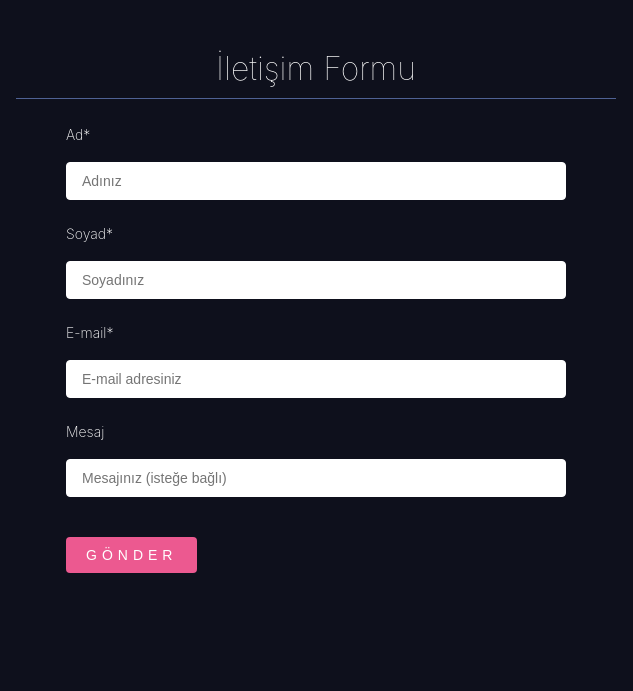
Test case: [9] form gönderildiğinde girilen tüm değerler render ediliyor.
The image size is (633, 691).
In the field with test id "name-input": (316, 181) top-left (66, 162), bottom-right (566, 200), type "emrah emrah"
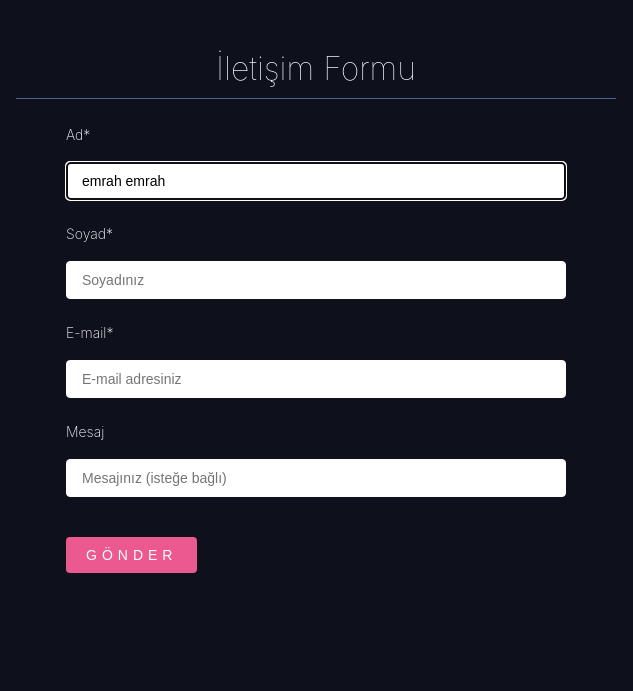
In the field with test id "lastName-input": (316, 280) top-left (66, 261), bottom-right (566, 299), type "test test test"
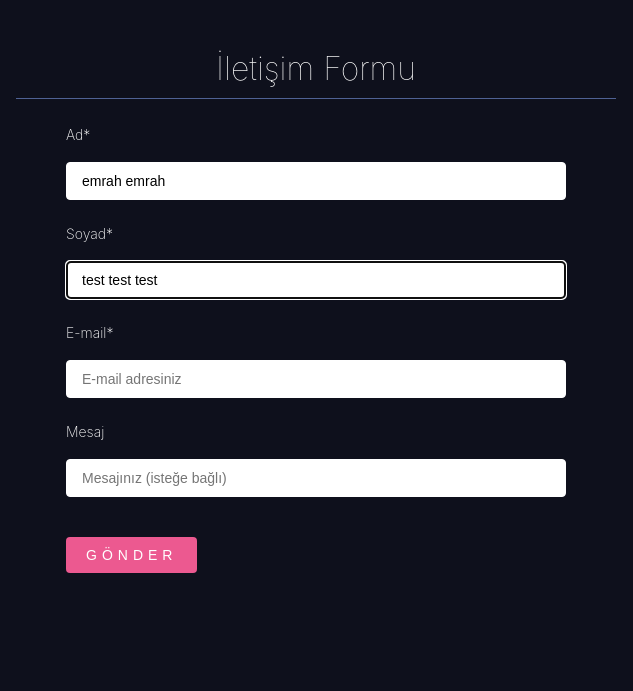
In the field with test id "email-input": (316, 379) top-left (66, 360), bottom-right (566, 398), type "emrah@workintech.com.tr"
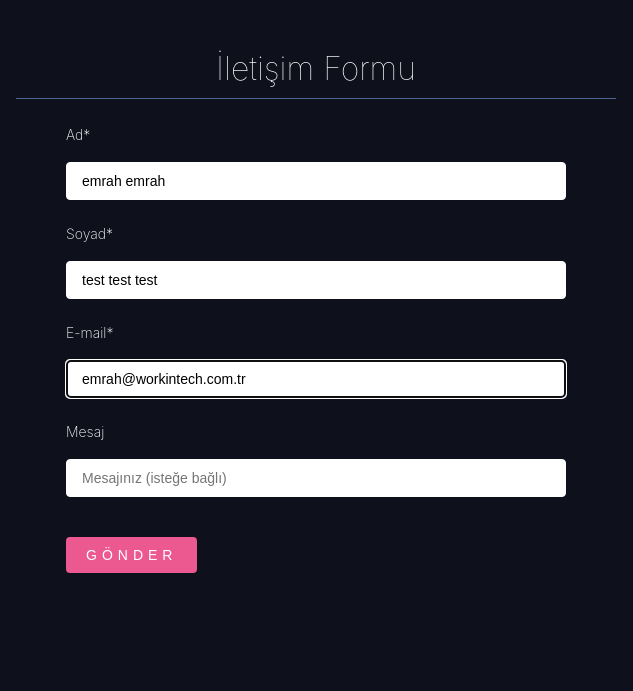
In the field with test id "message-input": (316, 478) top-left (66, 459), bottom-right (566, 497), type "emrah fdjkalfşa .com.tr"
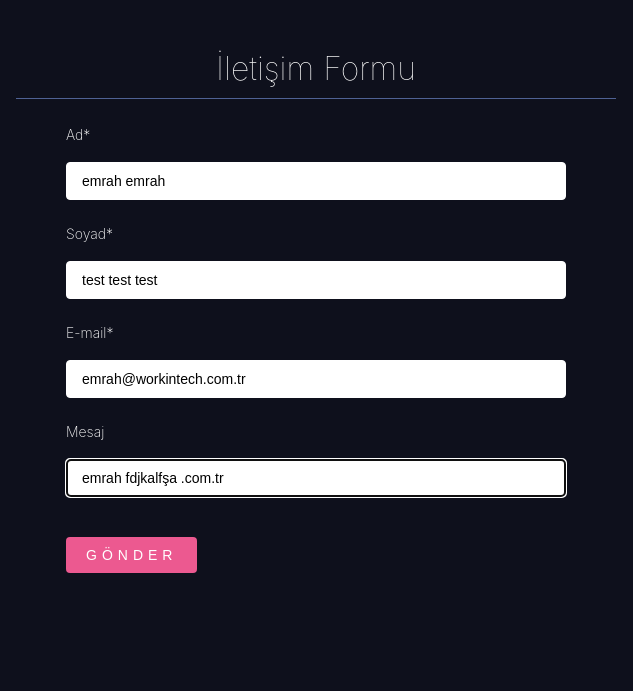
Click the button with test id "submit-button": (132, 555) top-left (66, 537), bottom-right (198, 573)
(page scrolled)
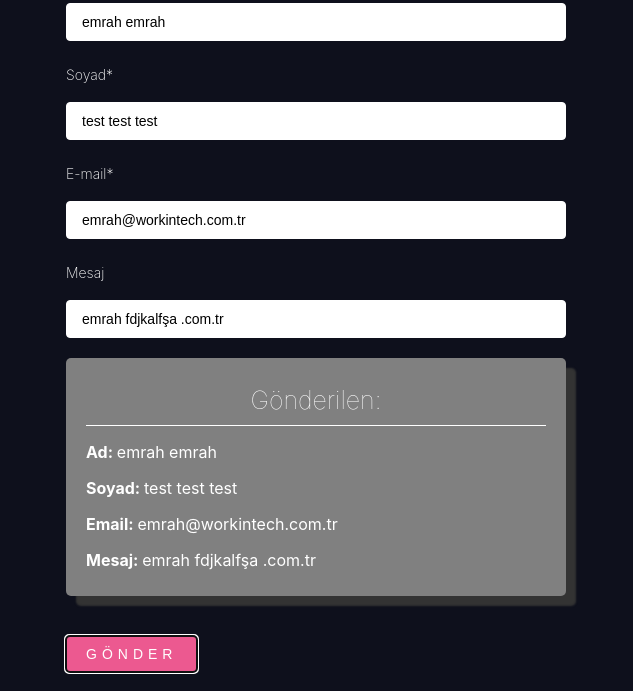
expect the element with test id "firstnameDisplay" is shown: met, box top-left (86, 442), bottom-right (217, 462)
expect the element with test id "lastnameDisplay" is shown: met, box top-left (86, 478), bottom-right (237, 498)
expect the element with test id "emailDisplay" is shown: met, box top-left (86, 514), bottom-right (338, 534)
